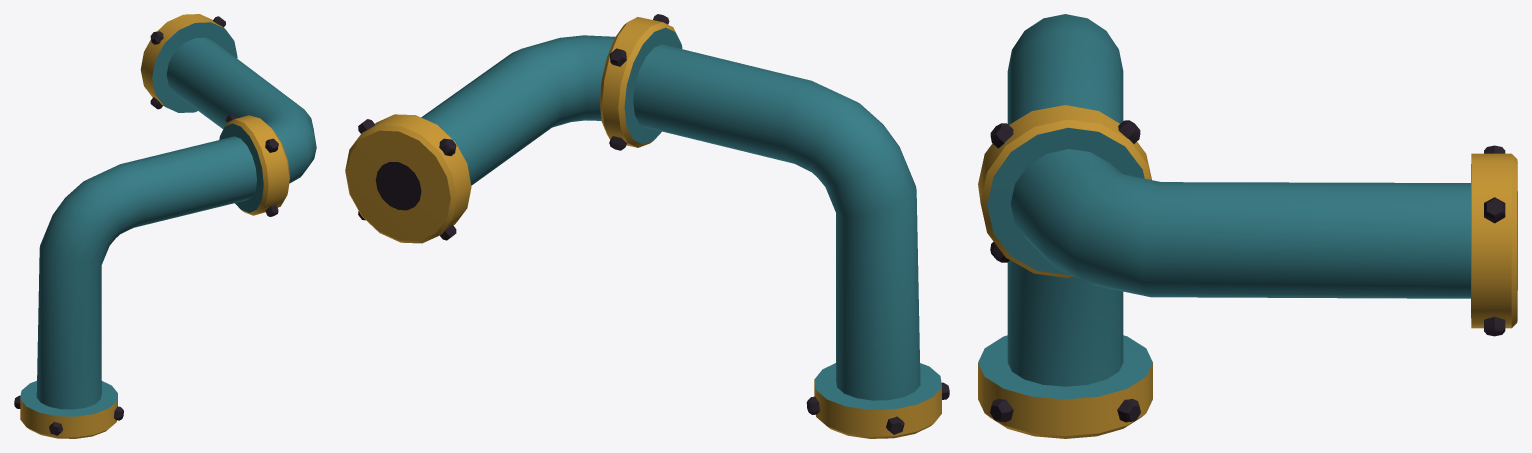
File: PipeRun_15.glb
3 renders of one model, left to right at view 1: azimuth 30°, elevation 25°; view 2: azimuth 150°, elevation 25°; view 3: azimuth 270°, elevation 25°, orthographic. The views are drawn at different scales.
Parts seen in each view (by area): view 1: PipeRun_15; view 2: PipeRun_15; view 3: PipeRun_15.
Boxes of the visible parts, x1,y1,x2,y2 form: PipeRun_15: (14,14,316,438); PipeRun_15: (345,14,949,438); PipeRun_15: (978,14,1517,438).
Bounding box in the file's own units: 4.28 × 3.2 × 3.47.
